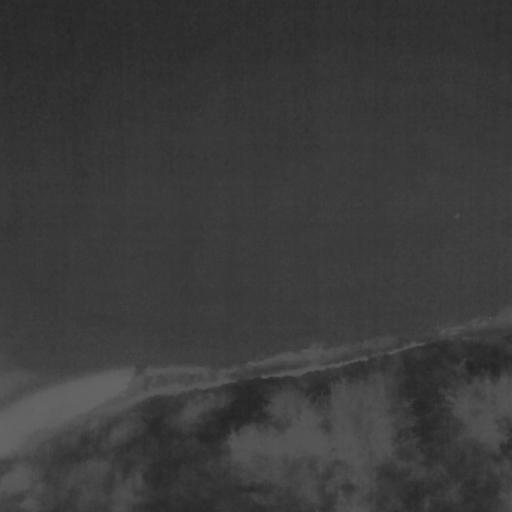uav: (454, 213, 462, 223)
